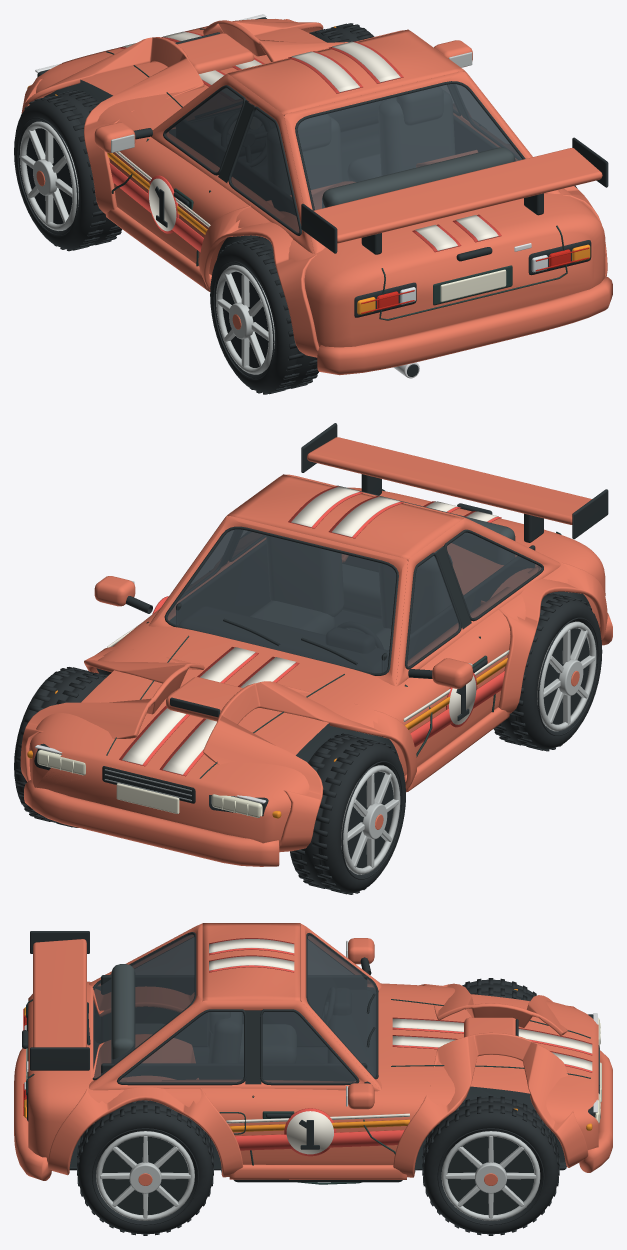
Rendered from zenith.fbx.
3 views of the same model, one above another, from view 1: azimuth 30°, elevation 25°; view 2: azimuth 150°, elevation 25°; view 3: azimuth 270°, elevation 25° (orthographic). The views are drawn at different scales.
Visible parts, largest first — view 1: Body, Wheel_FL_Mesh, Wheel_RL_Mesh, Wheel_FR_Mesh; view 2: Body, Wheel_FL_Mesh, Wheel_RL_Mesh, Wheel_FR_Mesh; view 3: Body, Wheel_FR_Mesh, Wheel_RR_Mesh, Wheel_FL_Mesh.
Part boxes in pixels (x1,y1,x2,y2): Body: [21, 14, 612, 378]; Wheel_FL_Mesh: [14, 90, 122, 251]; Wheel_RL_Mesh: [210, 236, 318, 394]; Wheel_FR_Mesh: [309, 23, 374, 42]; Body: [20, 423, 612, 866]; Wheel_FL_Mesh: [290, 733, 405, 894]; Wheel_RL_Mesh: [493, 592, 602, 751]; Wheel_FR_Mesh: [14, 667, 107, 827]; Body: [14, 923, 612, 1184]; Wheel_FR_Mesh: [422, 1096, 559, 1235]; Wheel_RR_Mesh: [77, 1100, 213, 1235]; Wheel_FL_Mesh: [462, 978, 536, 1001].
Size of the model in its own units: 237 by 151 by 378.
